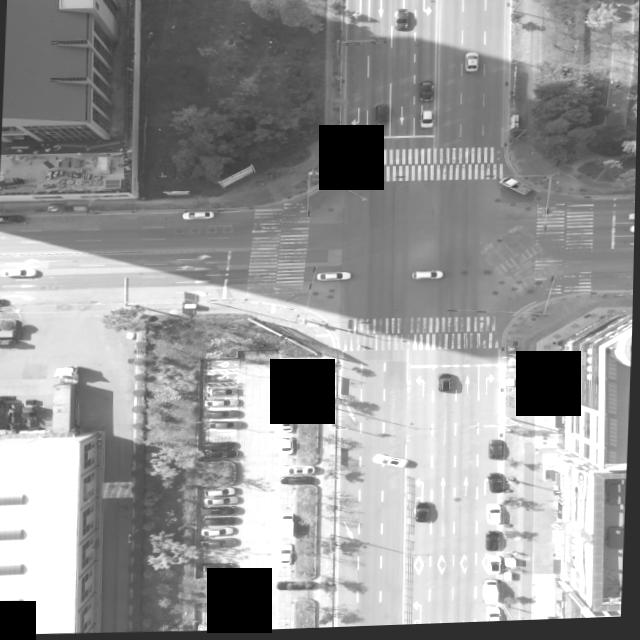car: (279, 580, 317, 595), (374, 457, 406, 470), (0, 268, 37, 279), (205, 450, 241, 461), (280, 478, 314, 489), (200, 541, 236, 551), (314, 274, 350, 284), (208, 421, 243, 431), (205, 442, 240, 452), (415, 505, 430, 528), (281, 469, 315, 479), (276, 547, 293, 567), (205, 509, 239, 519), (208, 411, 242, 421), (417, 85, 433, 106), (461, 56, 477, 77), (203, 401, 236, 411), (410, 273, 442, 283), (204, 527, 236, 537), (181, 212, 213, 222), (392, 15, 407, 35), (486, 509, 501, 529), (487, 444, 502, 464), (207, 488, 237, 498), (487, 477, 502, 497), (204, 564, 237, 573), (485, 535, 499, 556), (278, 378, 292, 399), (437, 378, 453, 396), (200, 625, 236, 633), (417, 114, 432, 133), (278, 439, 293, 458), (278, 416, 293, 435), (211, 389, 238, 399), (374, 110, 388, 129), (487, 559, 501, 578), (485, 610, 500, 626), (209, 497, 239, 505), (0, 214, 24, 223), (626, 228, 636, 239), (627, 216, 636, 225)
large_truck: (49, 366, 80, 438)
small_truck: (496, 180, 532, 200), (482, 583, 500, 607), (278, 516, 294, 541)
